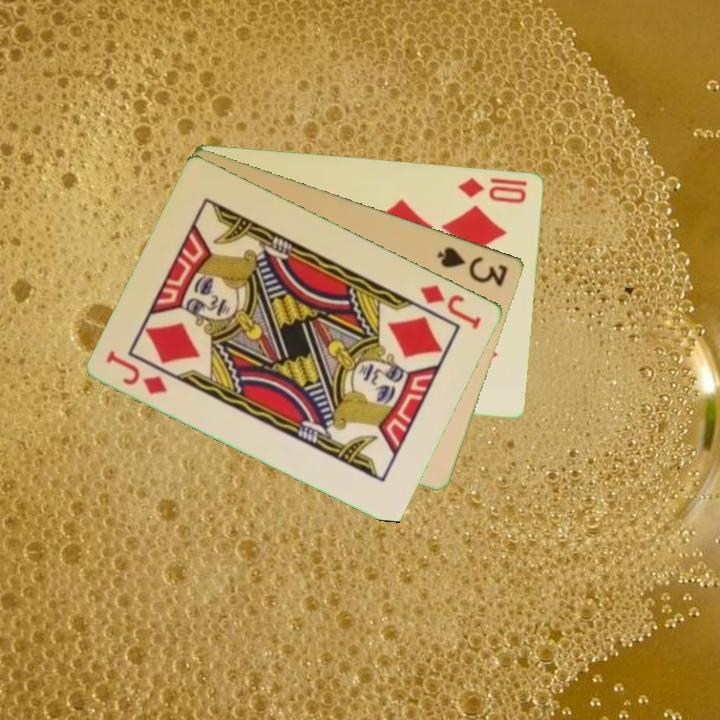10d: (455, 174, 530, 206)
3s: (434, 242, 512, 289)
Jd: (417, 281, 485, 332), (103, 347, 171, 398)
